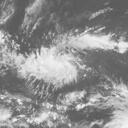cyclone: (18, 47, 78, 88)
